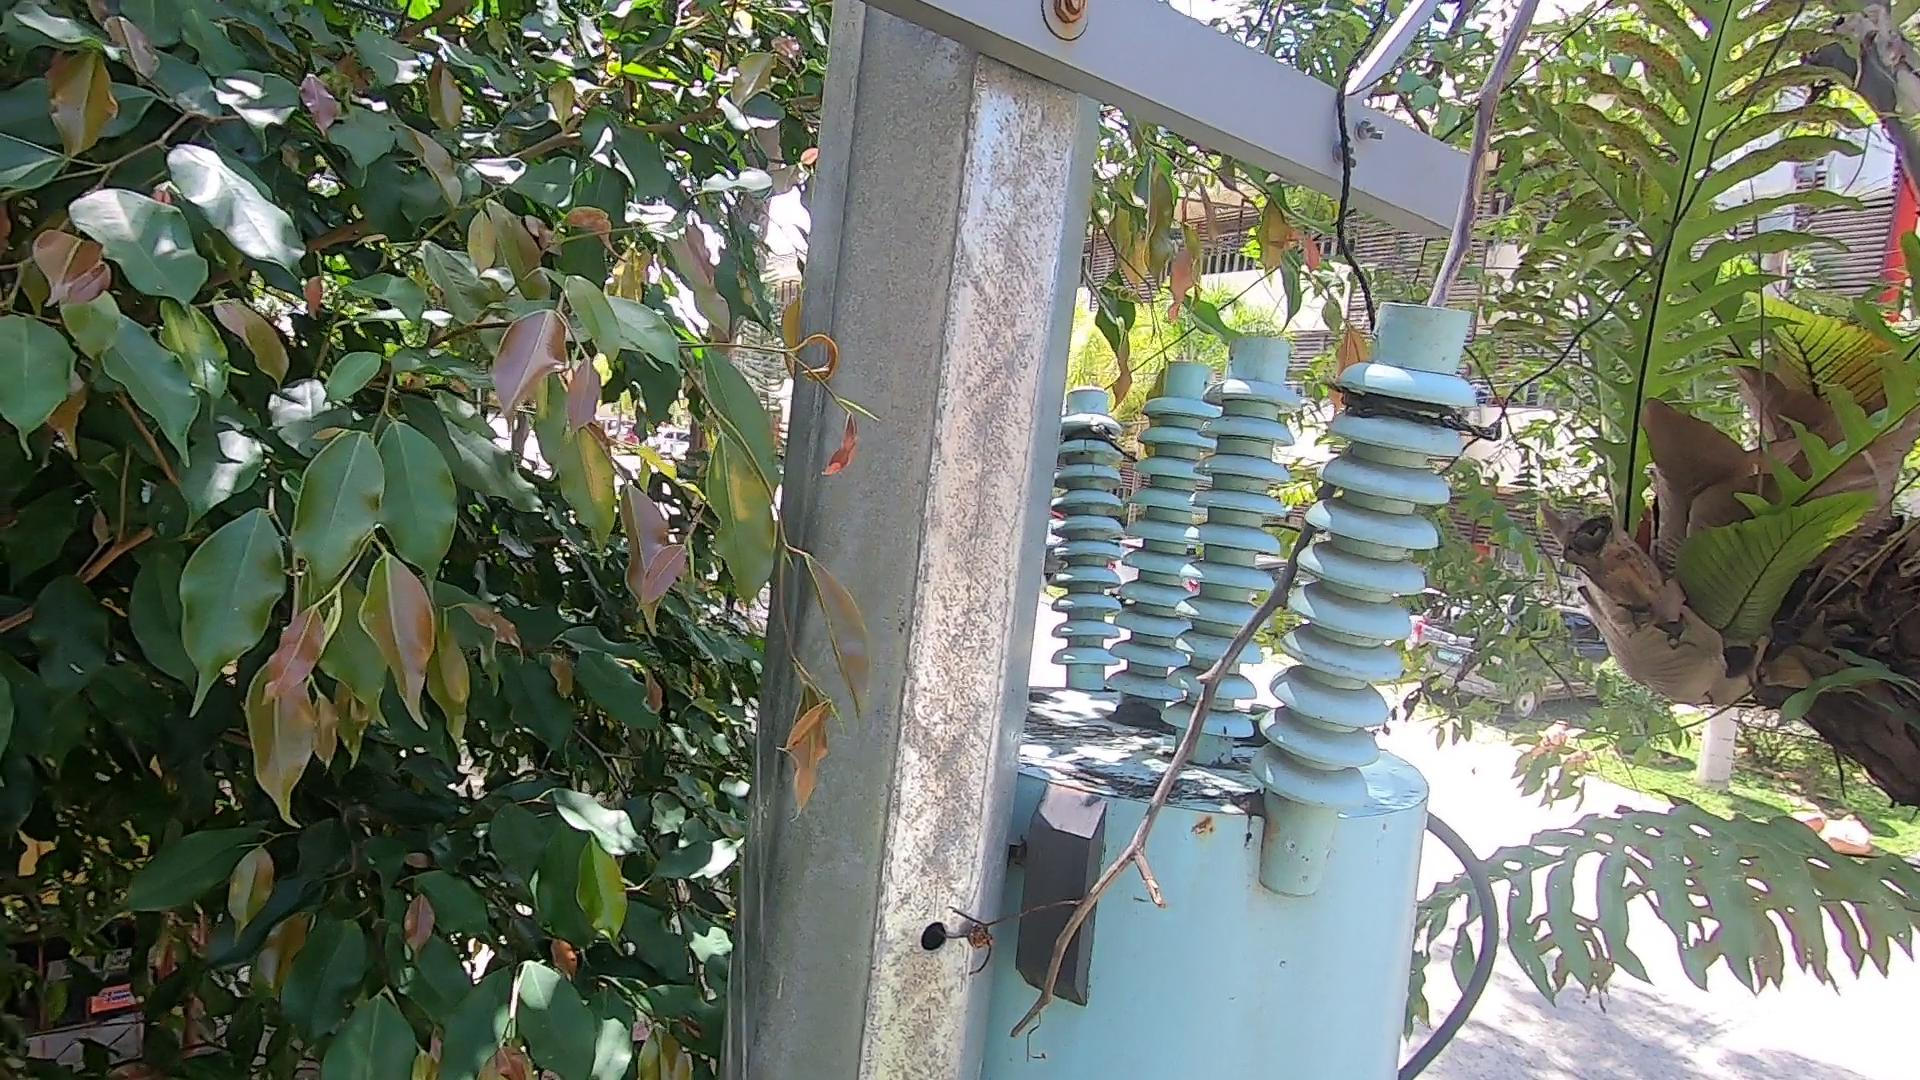leaf: (1097, 688, 1168, 741), (1217, 777, 1274, 823)
tree branch: (1035, 5, 1519, 1036)
